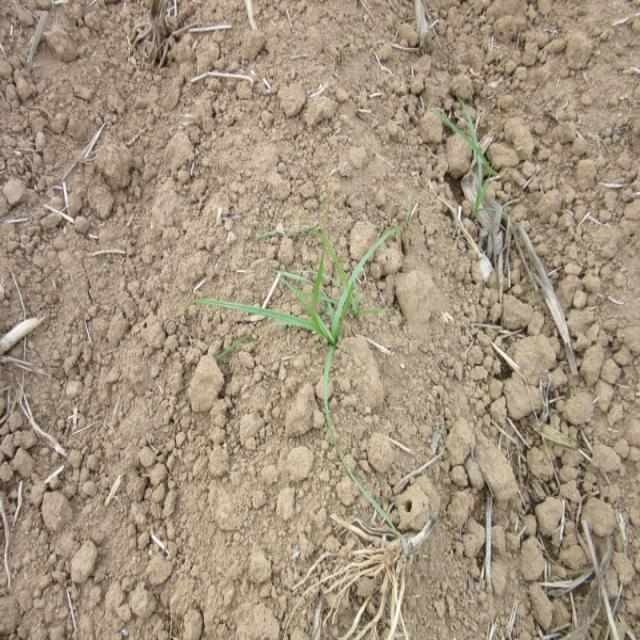cs: (187, 212, 398, 366)
